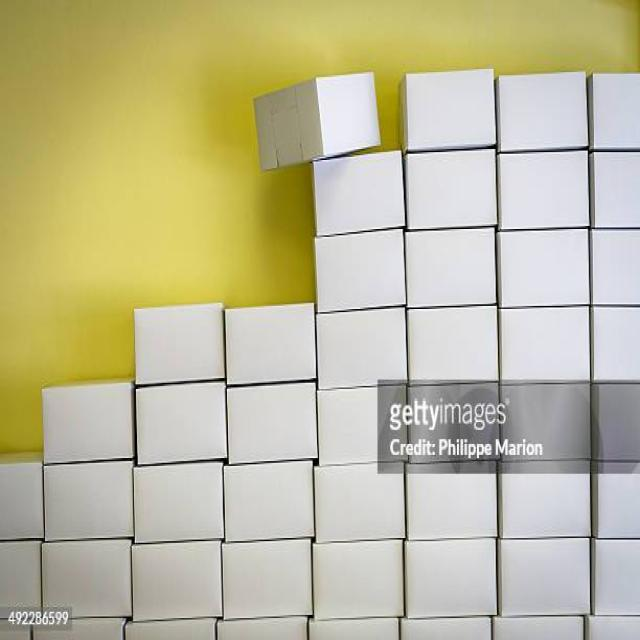Carton: (0, 304, 316, 618), (314, 229, 405, 389), (498, 71, 588, 226), (497, 229, 589, 378), (406, 229, 496, 381), (405, 464, 496, 613), (252, 71, 380, 169), (312, 151, 403, 235), (405, 69, 495, 151), (134, 303, 224, 384), (314, 463, 402, 541), (407, 149, 495, 227), (41, 541, 130, 618), (312, 543, 403, 616), (499, 541, 589, 613), (501, 474, 590, 538), (592, 74, 639, 149), (591, 231, 639, 304), (594, 154, 639, 226), (592, 309, 638, 378), (596, 540, 638, 612), (597, 477, 639, 535)
